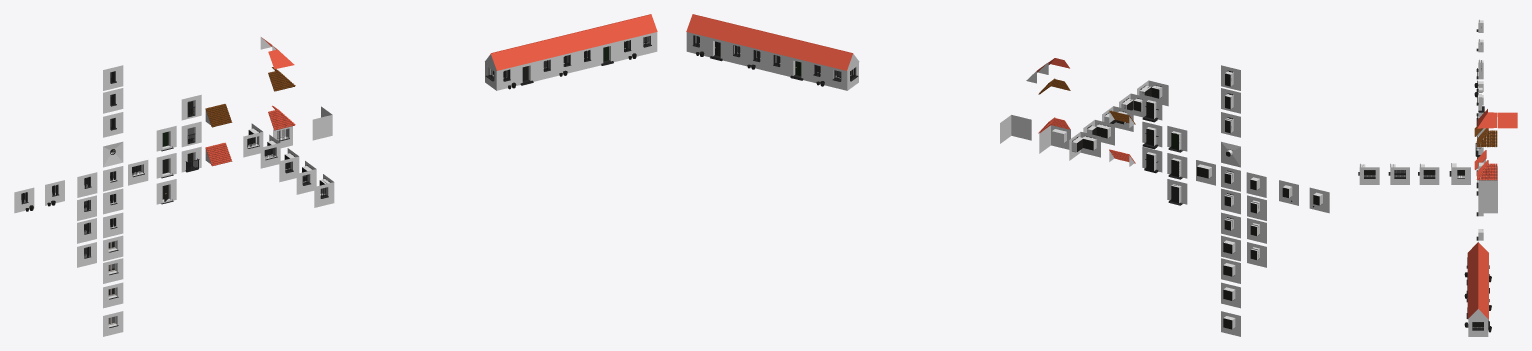
Rendered from CasaProcedural_12.fbx.
The picture shows the model from 3 angles, left to right: view 1: azimuth 30°, elevation 25°; view 2: azimuth 150°, elevation 25°; view 3: azimuth 270°, elevation 25°; orthographic projection. The views are drawn at different scales.
Visible parts, largest first — view 1: Procedural_Building, Corner.006, Corner.004, Corner.005, Corner.002, Corner.003, Corner.001, Roof.001, Roof; view 2: Procedural_Building, Corner.001, Corner.002, Corner, Corner.003, Terrasa.001, Terrasa.002, Corner.006, Door, Door.002, Door.001, Terrasa; view 3: Procedural_Building, Corner.006, Corner.004, Corner.003, Corner.005, Corner.001, RoofCorner, Roof.002, Corner, RoofCorner.001, RoofCorner.003, Roof.
Boxes of the visible parts, bbox=[...] form: Procedural_Building: bbox=[485, 14, 657, 90]; Corner.006: bbox=[314, 174, 334, 207]; Corner.004: bbox=[279, 148, 299, 182]; Corner.005: bbox=[296, 161, 316, 194]; Corner.002: bbox=[243, 123, 263, 157]; Corner.003: bbox=[260, 134, 280, 168]; Corner.001: bbox=[312, 106, 332, 140]; Roof.001: bbox=[205, 104, 232, 127]; Roof: bbox=[205, 142, 232, 166]; Procedural_Building: bbox=[686, 14, 859, 90]; Corner.001: bbox=[1000, 115, 1031, 143]; Corner.002: bbox=[1069, 132, 1100, 160]; Corner: bbox=[1039, 125, 1070, 153]; Corner.003: bbox=[1083, 120, 1114, 145]; Terrasa.001: bbox=[1142, 121, 1162, 149]; Terrasa.002: bbox=[1142, 94, 1162, 122]; Corner.006: bbox=[1137, 80, 1168, 106]; Door: bbox=[1167, 153, 1187, 179]; Door.002: bbox=[1167, 126, 1187, 152]; Door.001: bbox=[1167, 179, 1187, 205]; Terrasa: bbox=[1142, 146, 1162, 173]; Procedural_Building: bbox=[1464, 242, 1491, 336]; Corner.006: bbox=[1358, 164, 1379, 184]; Corner.004: bbox=[1418, 164, 1439, 184]; Corner.003: bbox=[1449, 163, 1470, 184]; Corner.005: bbox=[1388, 164, 1409, 184]; Corner.001: bbox=[1478, 195, 1497, 213]; RoofCorner: bbox=[1476, 160, 1497, 180]; Roof.002: bbox=[1498, 112, 1517, 128]; Corner: bbox=[1476, 177, 1497, 195]; RoofCorner.001: bbox=[1476, 128, 1497, 147]; RoofCorner.003: bbox=[1477, 109, 1497, 128]; Roof: bbox=[1474, 150, 1486, 169].
Bounding box in the file's own units: 3179 × 1269 × 807.
